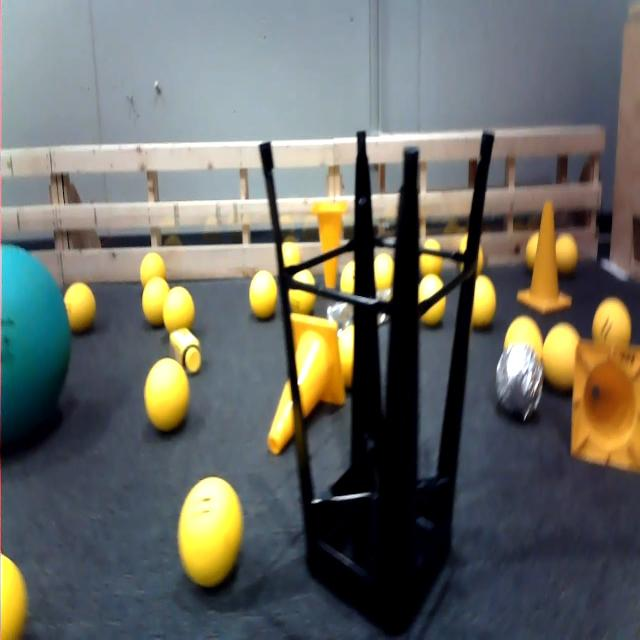fuel: (169, 466, 248, 589), (137, 354, 197, 444), (588, 294, 638, 360), (0, 549, 34, 640), (58, 274, 103, 340), (543, 322, 585, 392), (463, 262, 499, 334), (244, 264, 281, 328), (504, 310, 544, 366), (413, 270, 448, 330), (140, 274, 173, 332), (412, 231, 448, 281), (370, 245, 400, 304), (454, 225, 486, 279), (166, 284, 196, 340), (554, 228, 586, 276), (288, 270, 316, 322), (136, 241, 166, 283), (279, 234, 303, 275), (337, 257, 357, 301), (524, 223, 540, 270)
